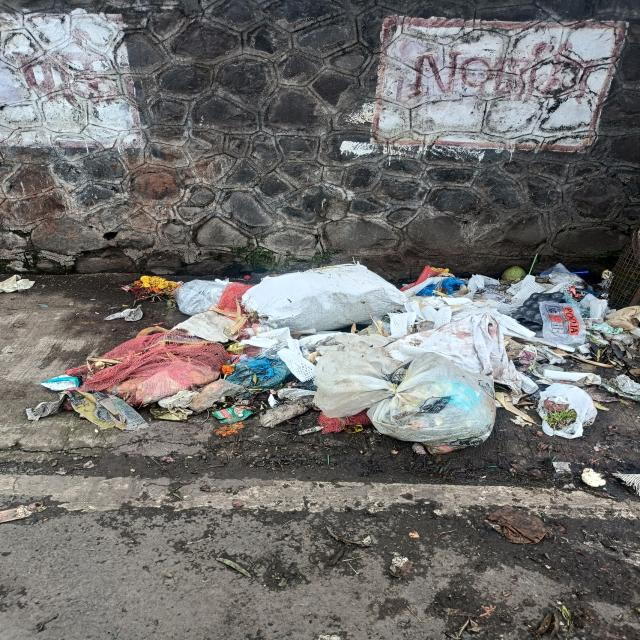garbage: (79, 260, 640, 447)
